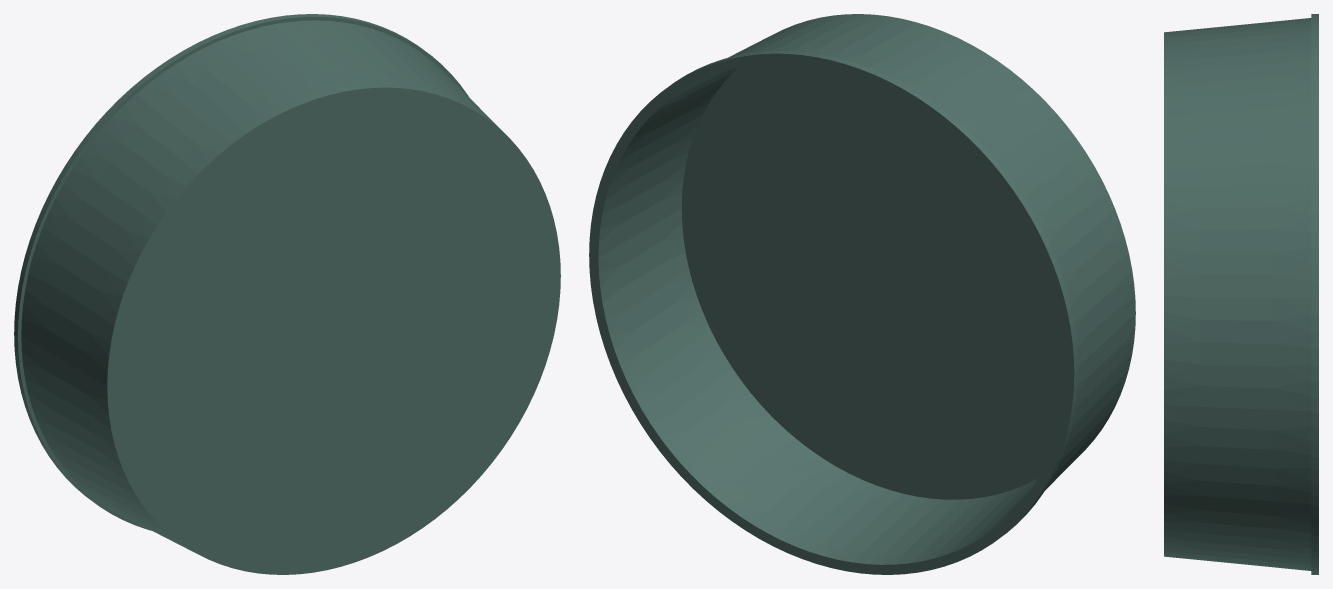
Rendered from SRSTCPCR.glb.
The picture shows the model from 3 angles, left to right: view 1: azimuth 30°, elevation 25°; view 2: azimuth 150°, elevation 25°; view 3: azimuth 270°, elevation 25°; orthographic projection.
Parts seen in each view (by area): view 1: 20747343; view 2: 20747343; view 3: 20747343.
Part boxes in pixels (bbox=[...]): 20747343: bbox=[14, 14, 560, 574]; 20747343: bbox=[589, 14, 1135, 574]; 20747343: bbox=[1164, 14, 1318, 574].
Bounding box in the file's own units: 1 × 1 × 0.2761.
